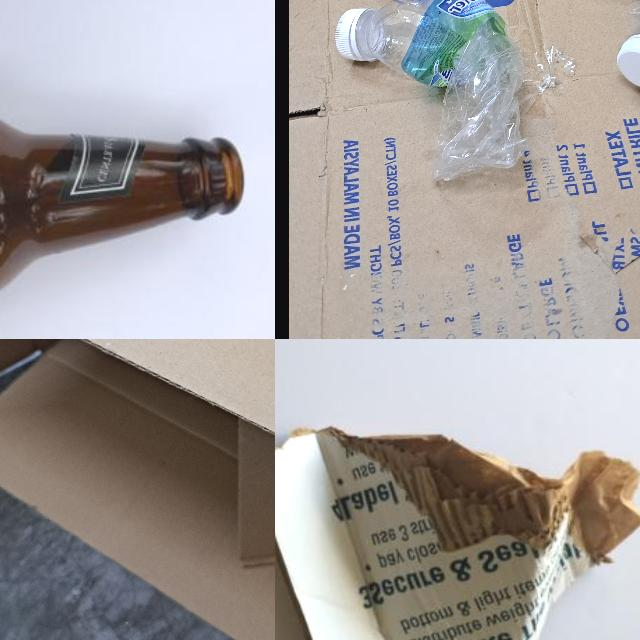garrafa de vidro: (0, 106, 242, 327)
garrafa plástica: (355, 0, 528, 182)
papelão: (289, 0, 640, 339), (0, 339, 275, 640), (275, 421, 640, 640)
tampa plástica: (334, 8, 374, 62), (616, 36, 640, 89)
